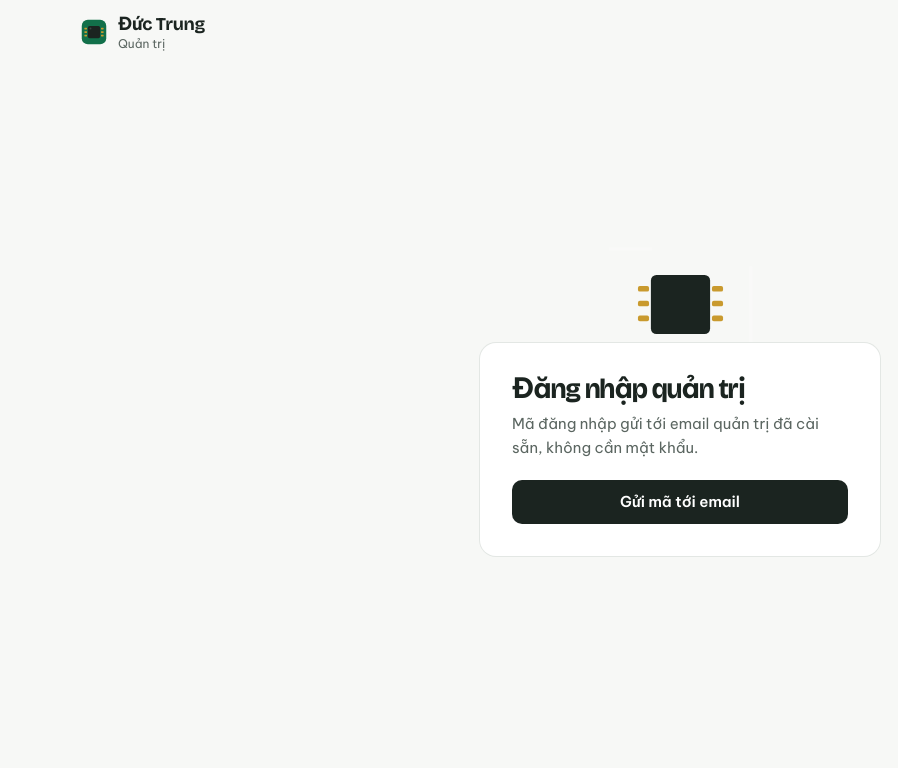
Test case: trang con gặp SESSION_EXPIRED → LoginPage, giữ hash; đăng nhập lại → chi tiết đơn đó
The width and height of the screenshot is (898, 768).
Check: the heading "Đăng nhập quản trị" is shown, box x1=512 y1=372 x2=745 y2=406
Click the button "Gửi mã tới email" at (680, 502), box x1=512 y1=480 x2=848 y2=524
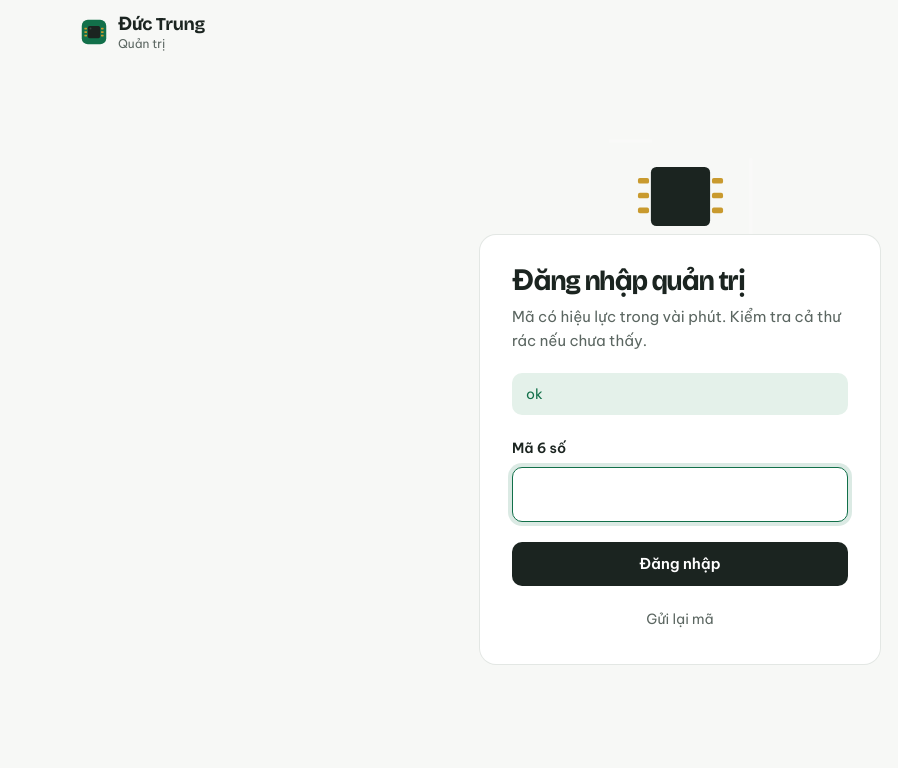
Type "123456" into the field labelled "Mã 6 số" at (680, 494), box x1=512 y1=467 x2=848 y2=522
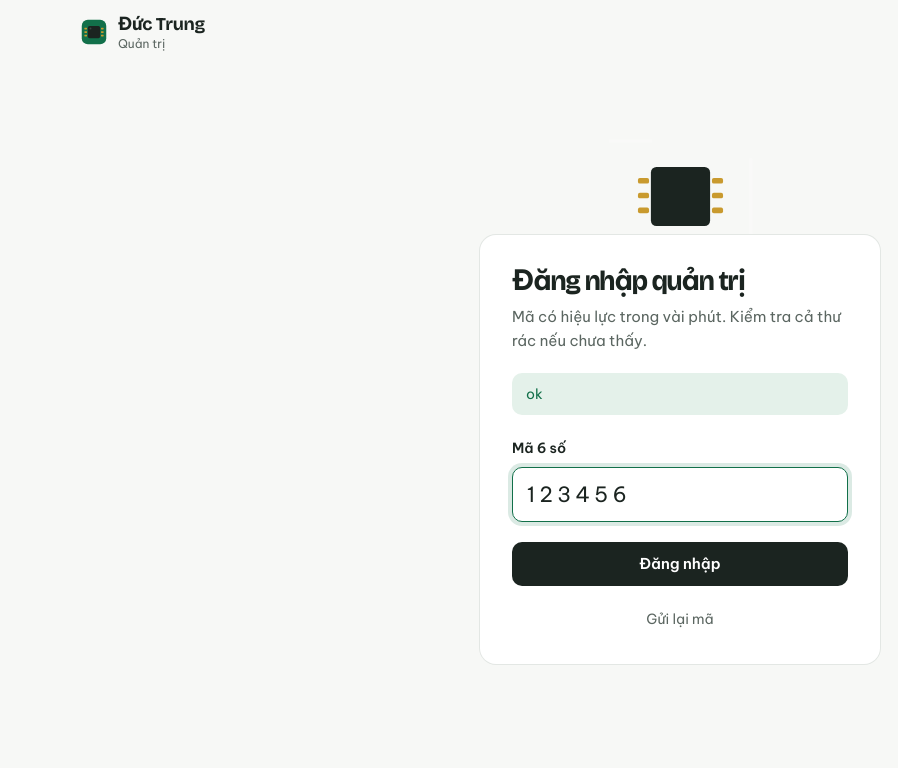
Click the button "Đăng nhập" at (680, 564), box x1=512 y1=542 x2=848 y2=586
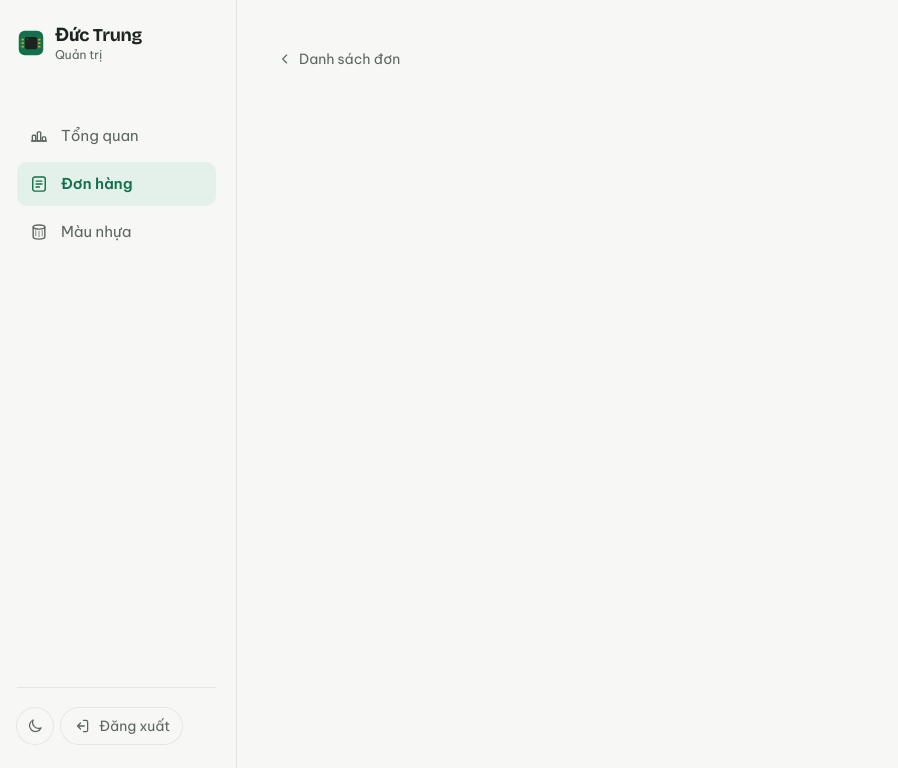
Check: the heading "Đăng nhập quản trị" is gone
